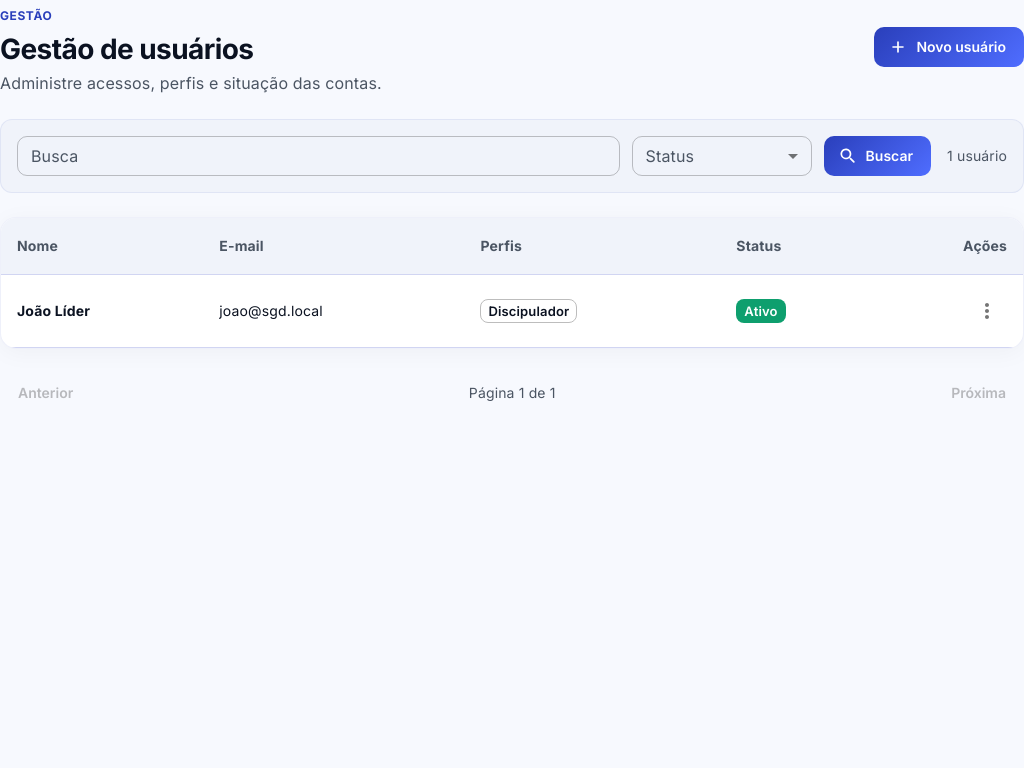
Test: gestão de usuários › acumula o perfil de administrador em um discipulador existente
Check: the text "joao@sgd.local" is shown, box [203, 274, 464, 347]
What coordinates should you click on to do the following:
click the button named "Ações de João Líder"
I would click on:
 (987, 311)
Its box is [967, 291, 1007, 331].
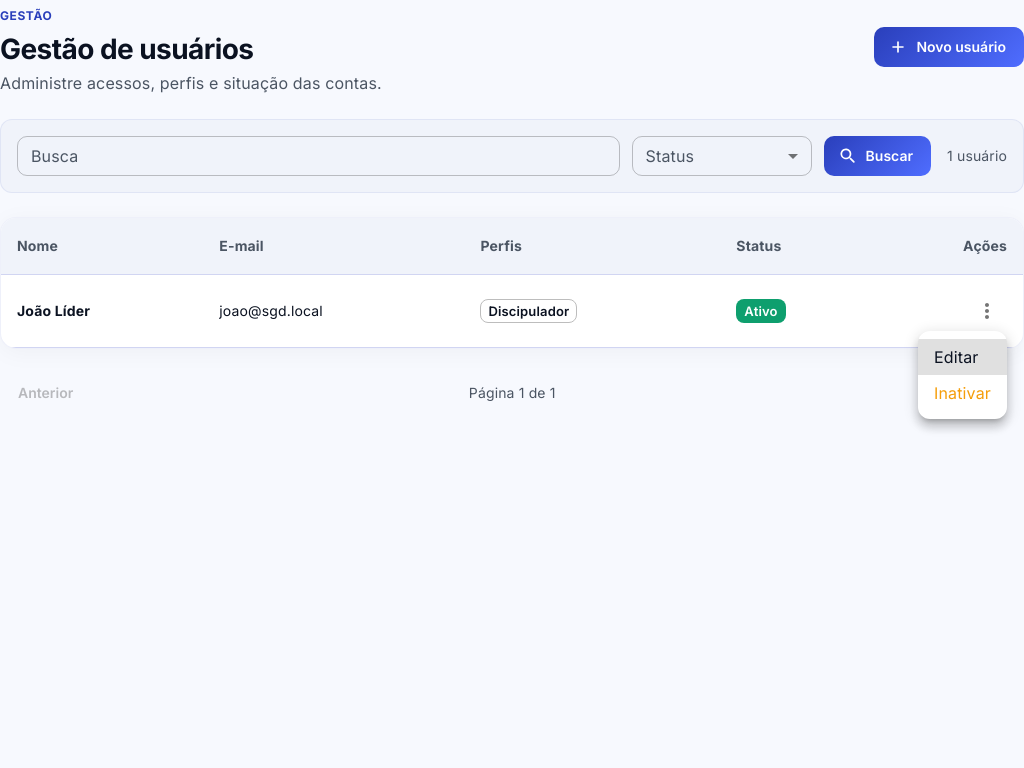
What coordinates should you click on to do the following:
click the menu item "Editar"
I would click on:
 (962, 357)
Its box is [918, 339, 1007, 375].
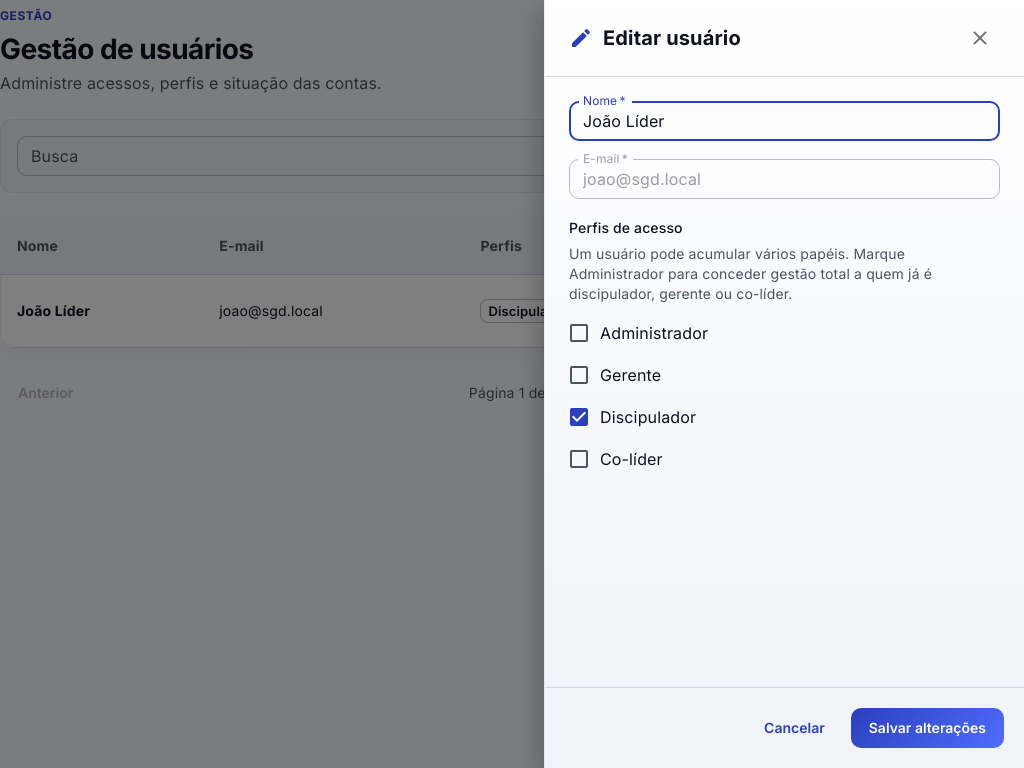
Check: the heading "Editar usuário" is shown, box [603, 24, 741, 52]
Check: the field labelled "E-mail *" is disabled, box [569, 159, 1000, 199]
Check: the checkbox labelled "Discipulador" is checked, box [567, 405, 696, 429]
What coordinates should you click on to do the following:
click the checkbox labelled "Administrador"
I would click on:
 (638, 333)
Its box is [567, 321, 708, 345].
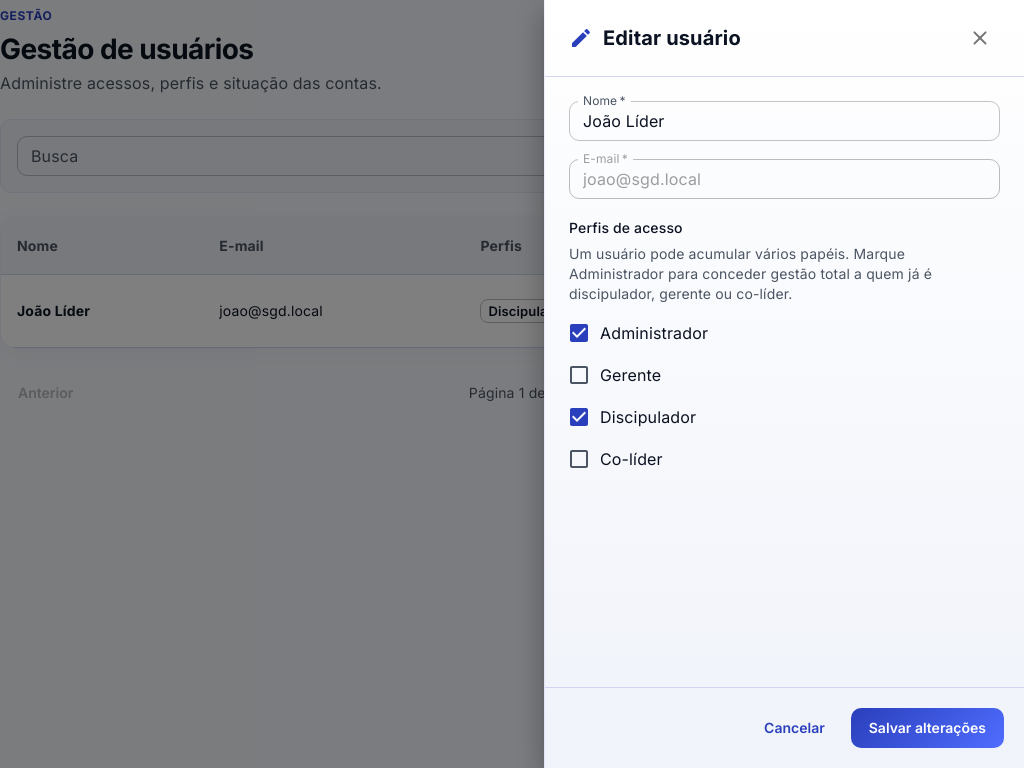
What coordinates should you click on to do the following:
click the button "Salvar alterações"
I would click on:
 (927, 728)
Its box is [851, 708, 1004, 748].
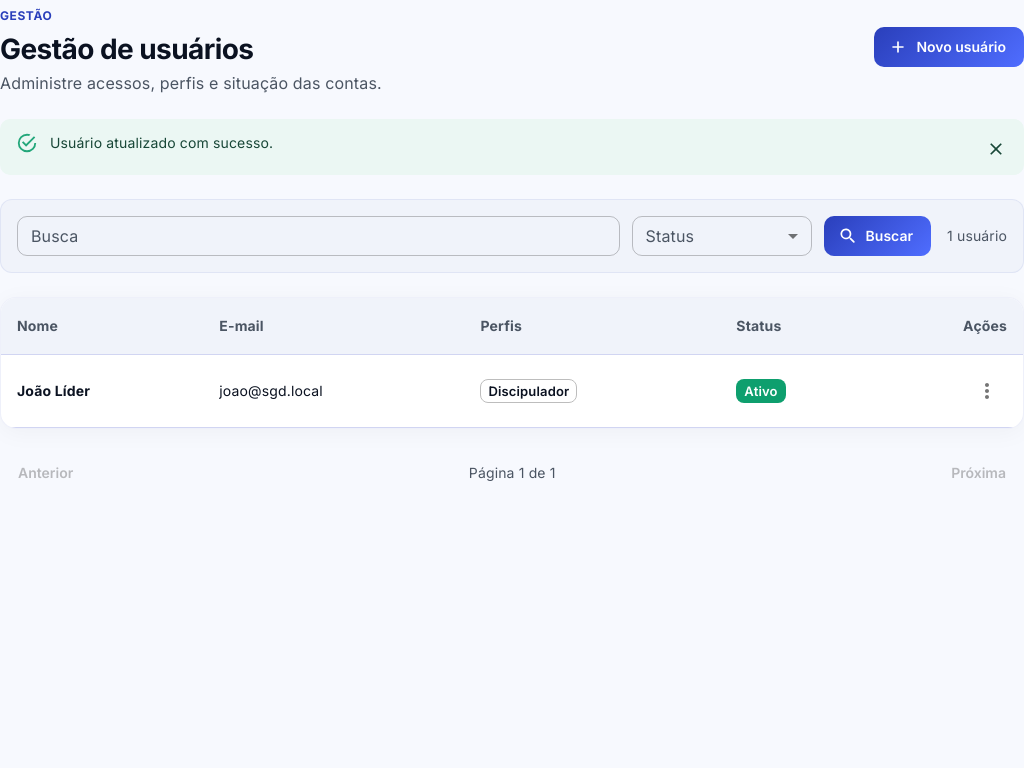
Check: the text "Usuário atualizado com sucesso." is shown, box [50, 134, 273, 151]
